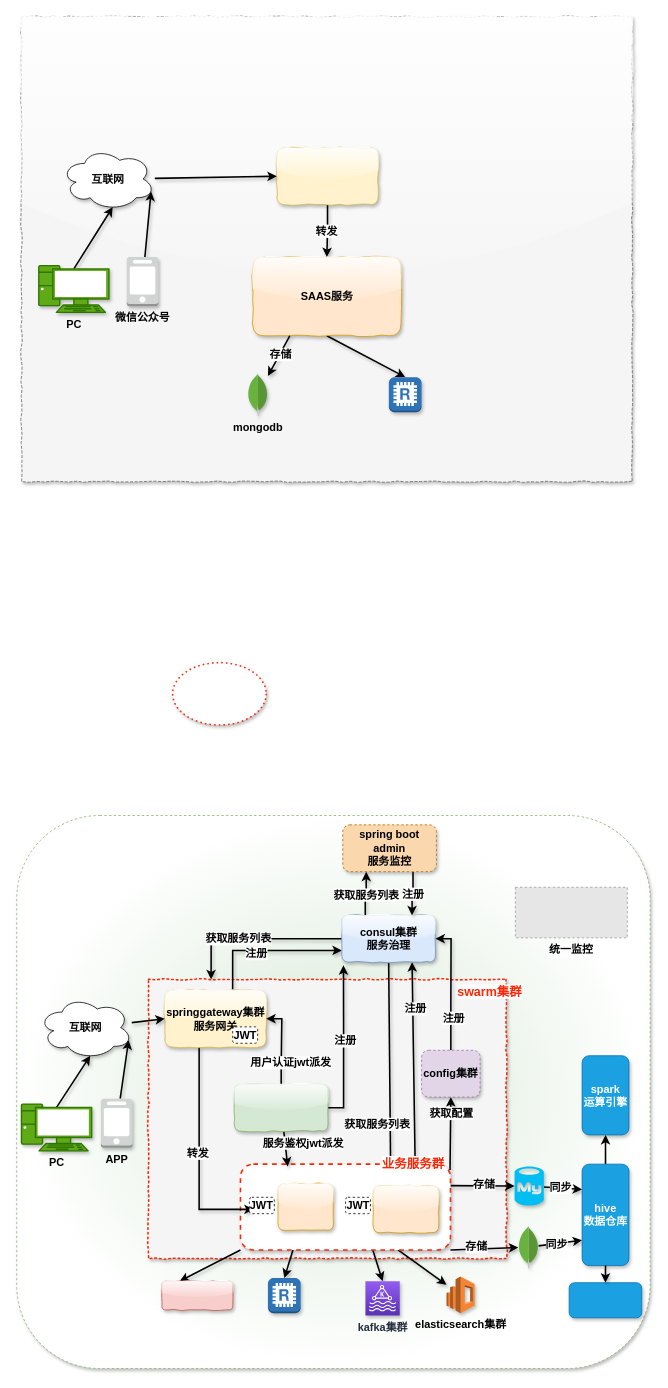
Some shapes in this 668 by 1388 pixel diagram are drawn without their labels. Grey dashed boxes stand in for pictures. Here are the shapes that lost their labels. From the top down, the centre of each, then its label:
At (x=328, y=177): "nginx".
At (x=405, y=395): "redis".
At (x=281, y=1109): "auth server 集群 授权中心".
At (x=529, y=1187): "mysql集群".
At (x=306, y=1208): "service1 service2 service3".
At (x=406, y=1210): "service2 service1 service3".
At (x=528, y=1248): "mongodb集群".
At (x=198, y=1296): "rabbitmq集群".
At (x=284, y=1296): "redis集群".
At (x=605, y=1301): "hadoop集群".
